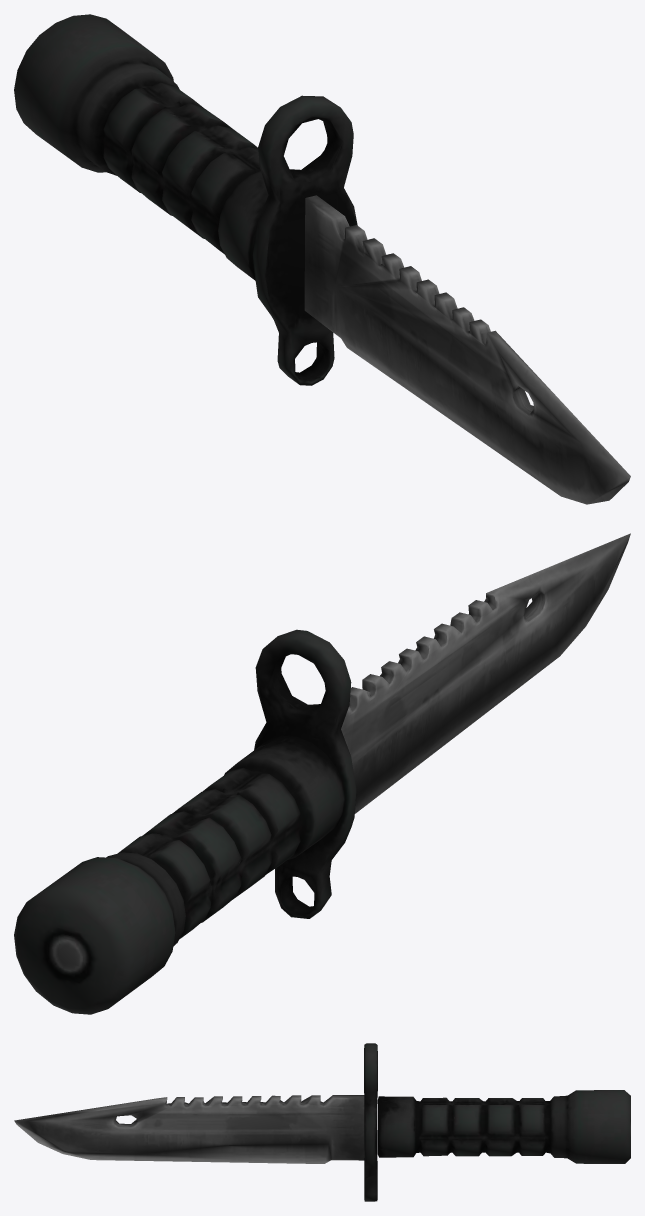
The model's file is knife_v.glb.
3 renders of one model, top to bottom at view 1: azimuth 30°, elevation 25°; view 2: azimuth 150°, elevation 25°; view 3: azimuth 270°, elevation 25°, orthographic. The views are drawn at different scales.
Visible parts, largest first — view 1: Knife_v; view 2: Knife_v; view 3: Knife_v.
Part boxes in pixels (x1=…): Knife_v: x1=14, y1=14, x2=630, y2=504; Knife_v: x1=14, y1=533, x2=630, y2=1014; Knife_v: x1=14, y1=1043, x2=630, y2=1201.
Bounding box in the file's own units: 0.049 × 0.1121 × 0.4057.
1 material, 1 textured.
